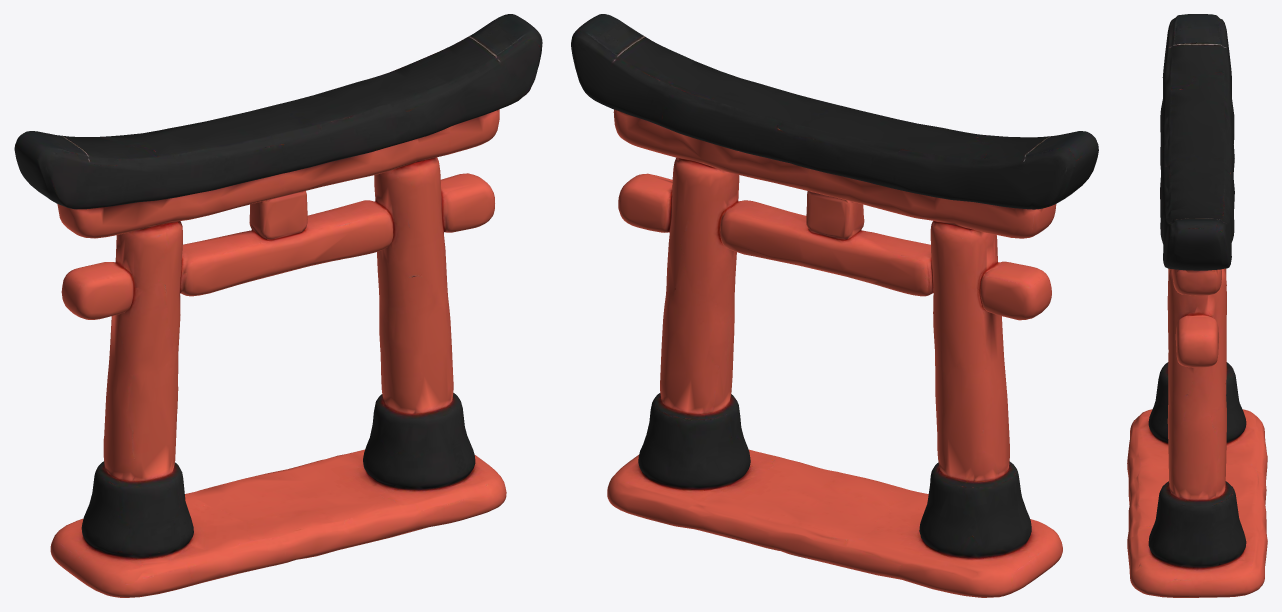
File: deco-torii.glb
The picture shows the model from 3 angles, left to right: view 1: azimuth 30°, elevation 25°; view 2: azimuth 150°, elevation 25°; view 3: azimuth 270°, elevation 25°; orthographic projection. The views are drawn at different scales.
Bounding box in the file's own units: 1.9 × 1.62 × 0.5211.
1 material, 1 textured.
